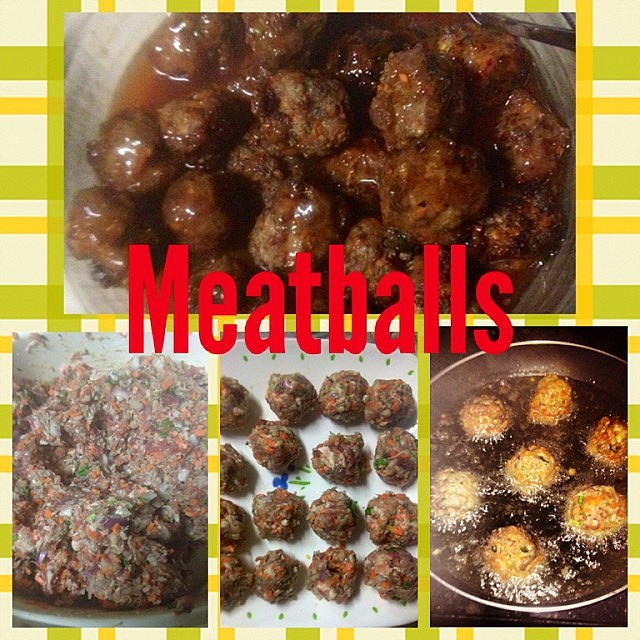meatballs: (85, 11, 565, 303), (216, 372, 420, 601), (439, 381, 623, 591)
